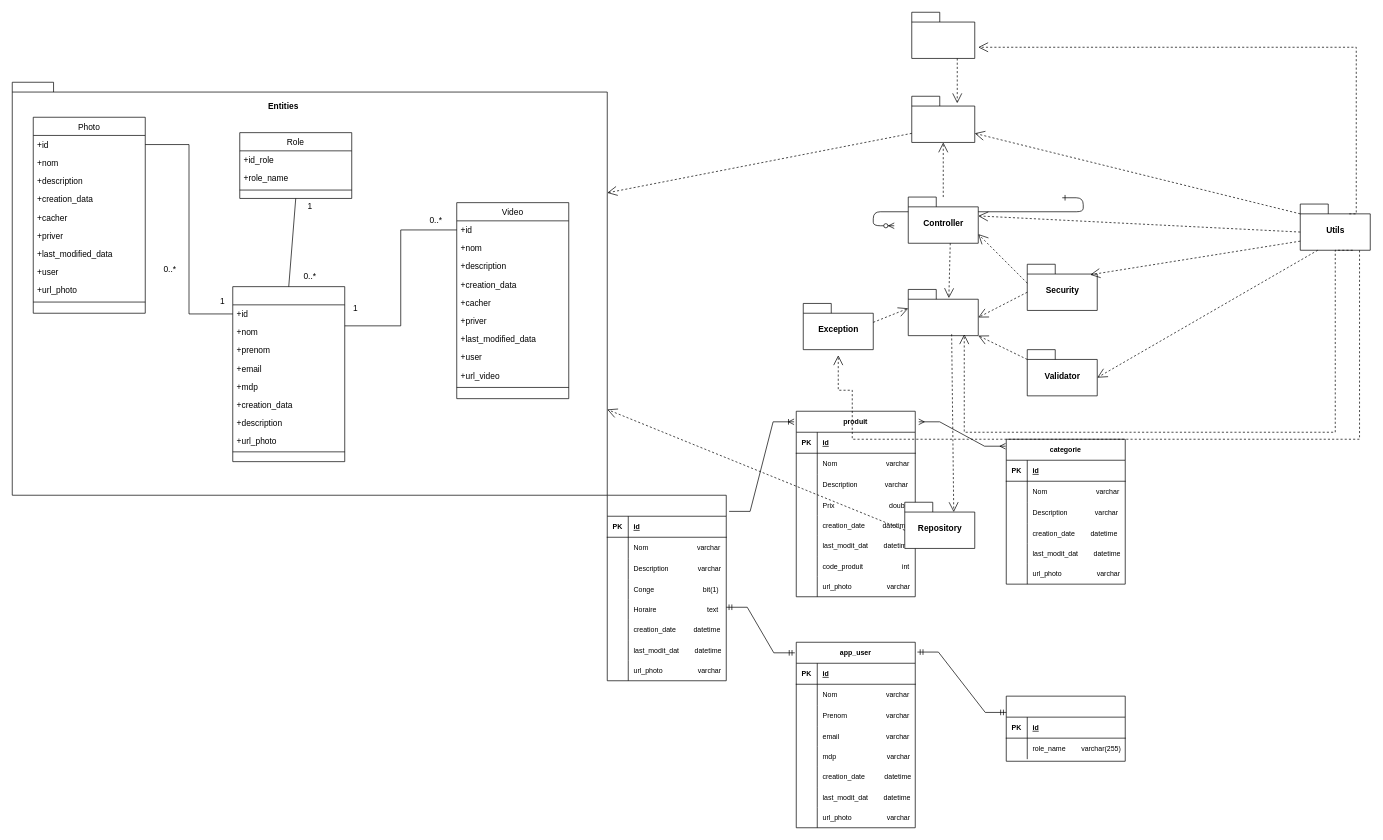
Image size: 1383x840. Some labels were removed from this diagram. The box of each missing label's shape, as (x1, y1, x2, y2) in pixels:
app_rol: (1006, 695, 1125, 761)
boutique: (607, 495, 726, 681)
Dto: (911, 96, 975, 142)
Model: (911, 12, 975, 58)
Service: (908, 289, 978, 336)
User: (232, 286, 345, 462)
